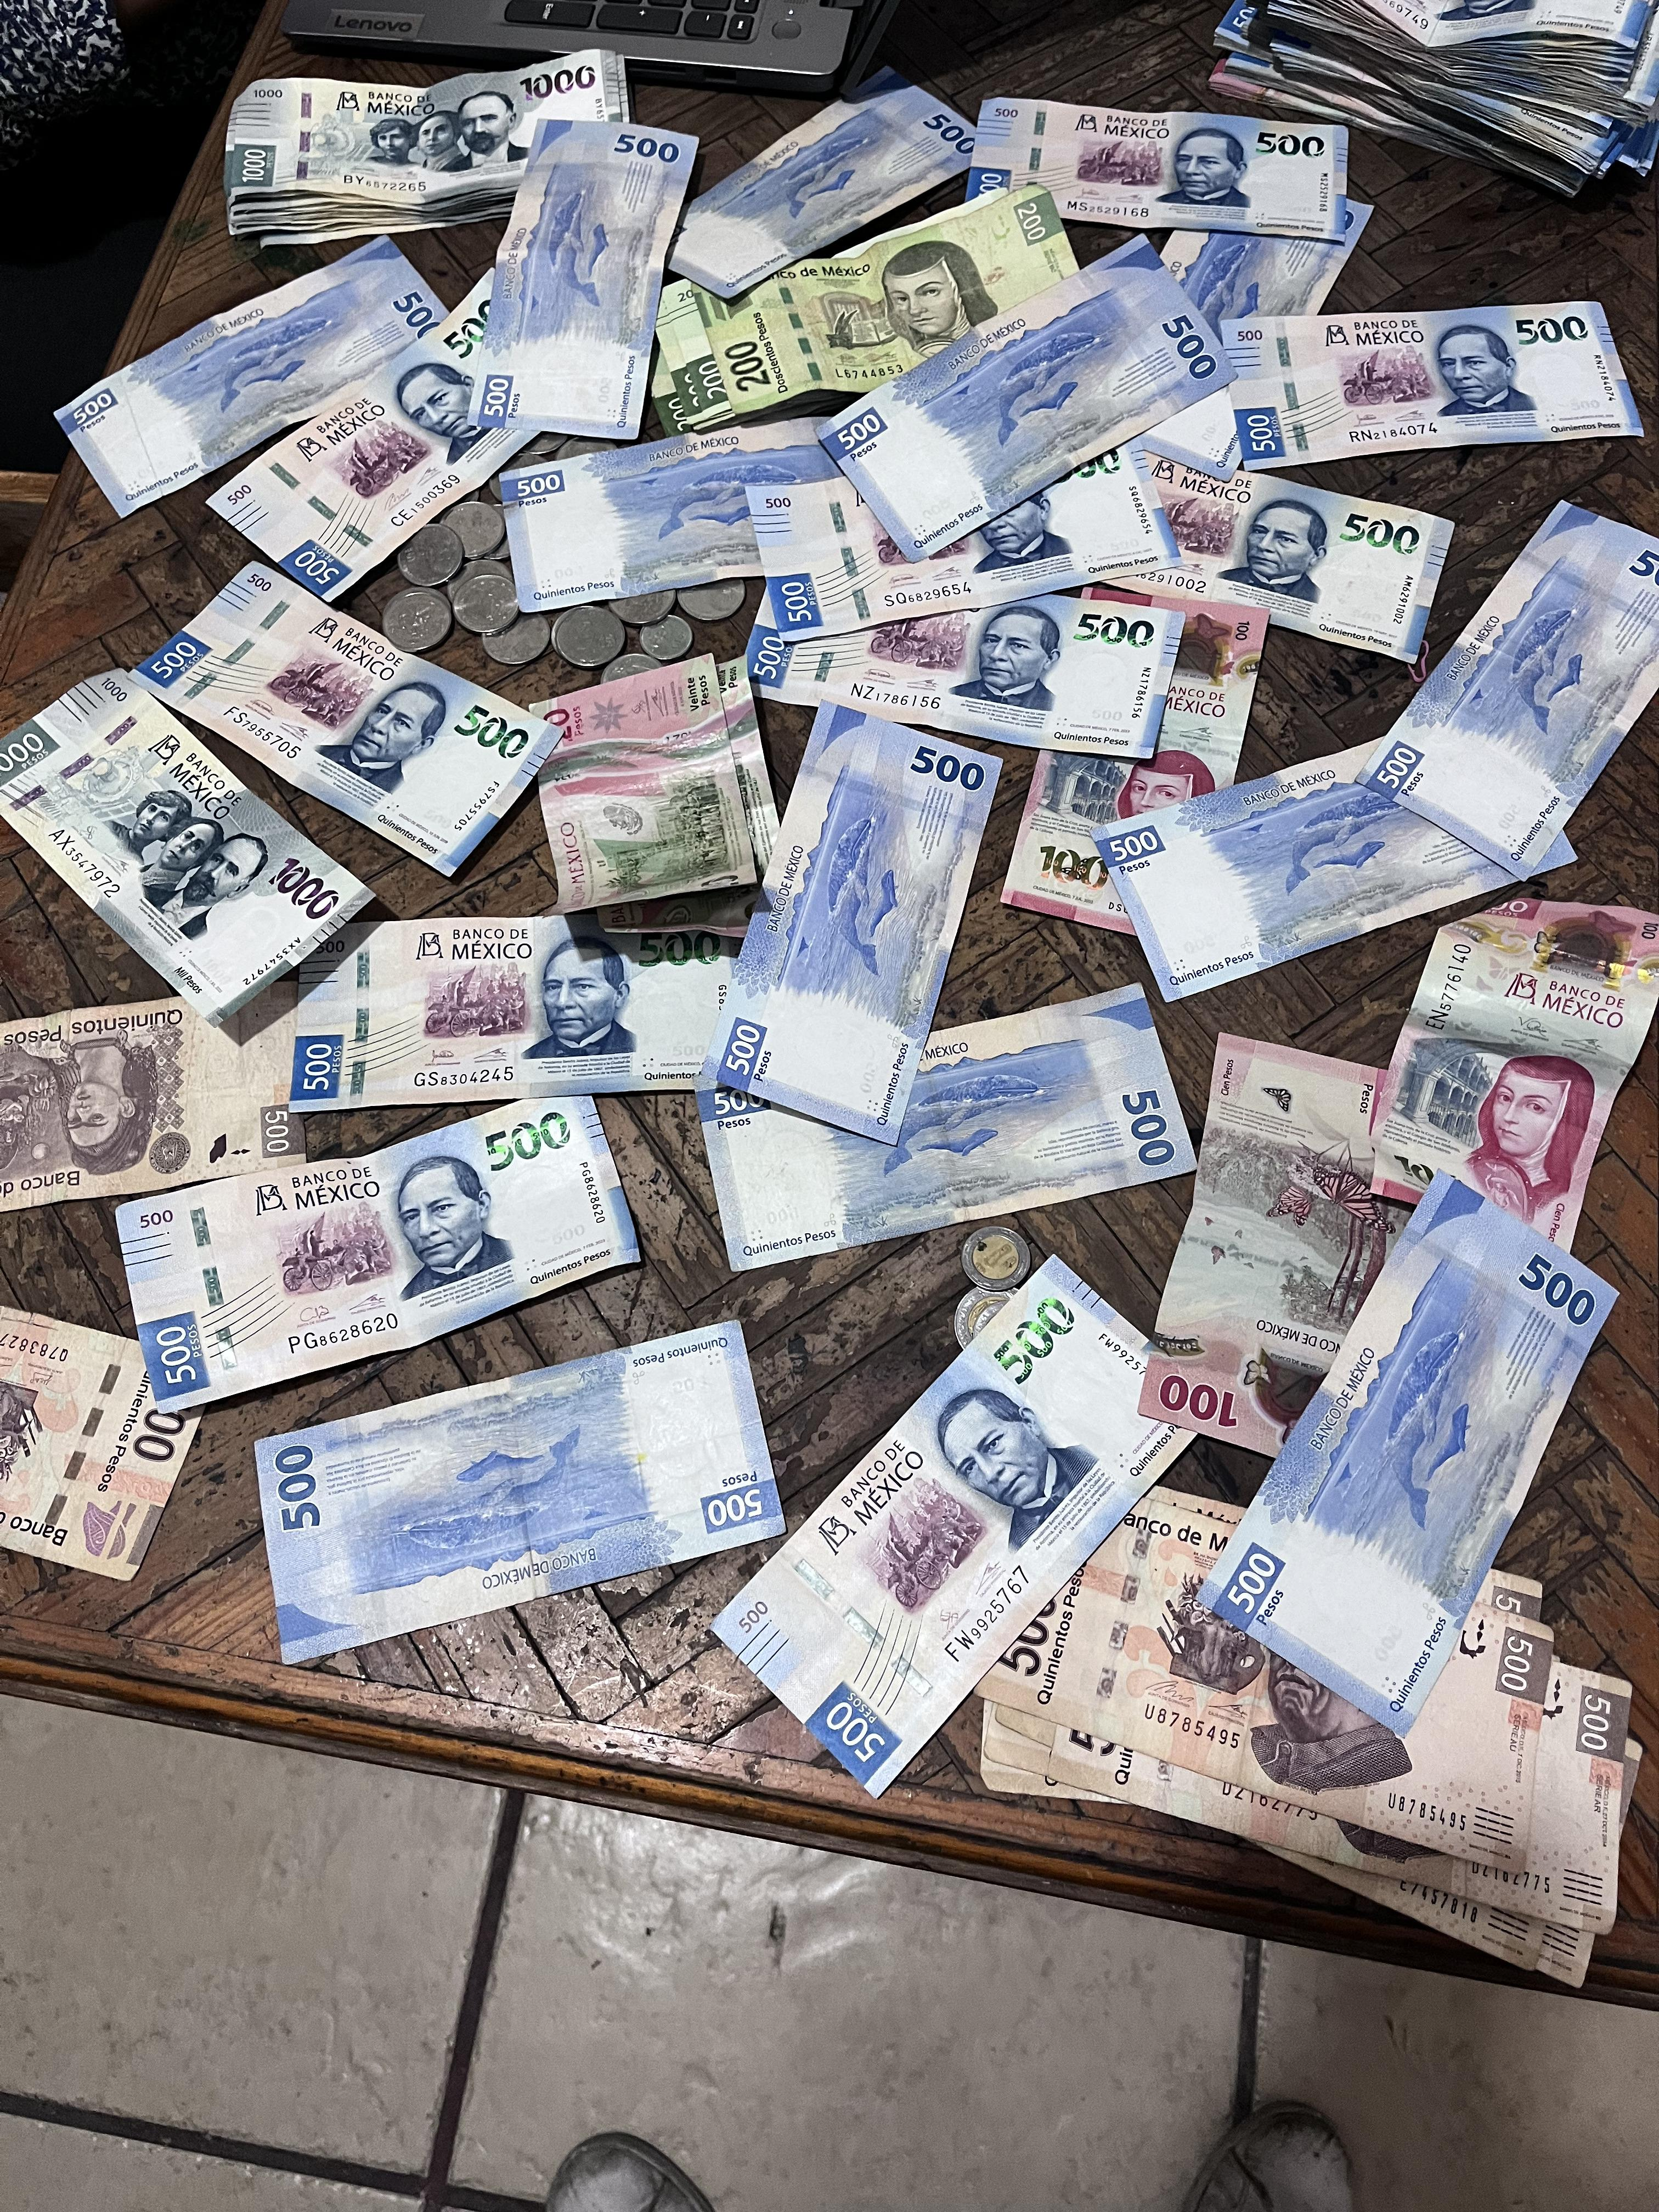1: (953, 1221, 1030, 1292)
100: (1154, 1014, 1405, 1470), (1406, 862, 1659, 1256), (997, 597, 1272, 934)
1000: (2, 658, 418, 1028), (197, 63, 648, 237)
20: (511, 632, 769, 925)
200: (631, 181, 1098, 416)
500: (955, 1494, 1642, 2001), (0, 946, 319, 1207), (0, 1287, 237, 1608)
500 nuevo: (688, 1252, 1216, 1775), (202, 1310, 875, 1677), (1222, 1136, 1622, 1747), (103, 1103, 711, 1372), (122, 535, 584, 887), (681, 993, 1222, 1291), (26, 230, 512, 517), (1072, 728, 1600, 988), (739, 685, 1006, 1143), (260, 876, 786, 1106), (730, 556, 1239, 787), (1051, 408, 1466, 665), (831, 268, 1239, 529), (1434, 458, 1659, 883), (653, 59, 1051, 284), (479, 432, 972, 594), (488, 89, 692, 470), (1197, 301, 1657, 451), (964, 56, 1344, 237), (1258, 0, 1649, 172)
